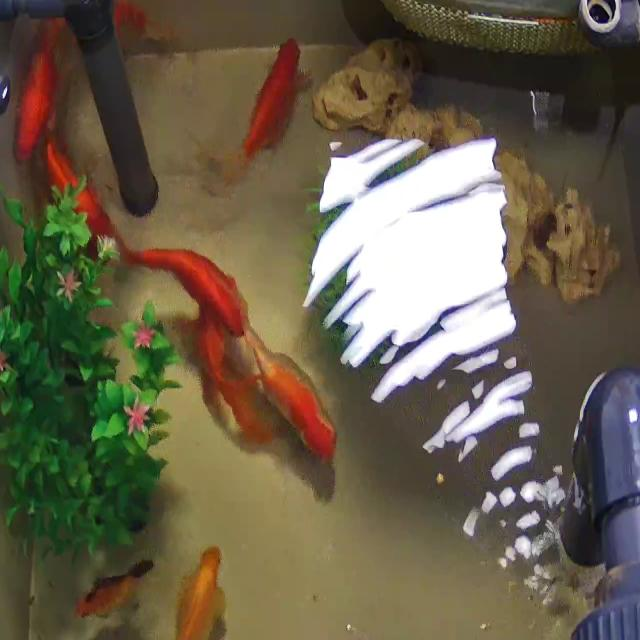fish: (244, 314, 349, 474), (232, 28, 317, 200), (138, 233, 266, 334), (60, 538, 164, 640), (152, 540, 253, 640), (11, 26, 76, 180), (195, 322, 266, 462), (41, 149, 132, 257)
